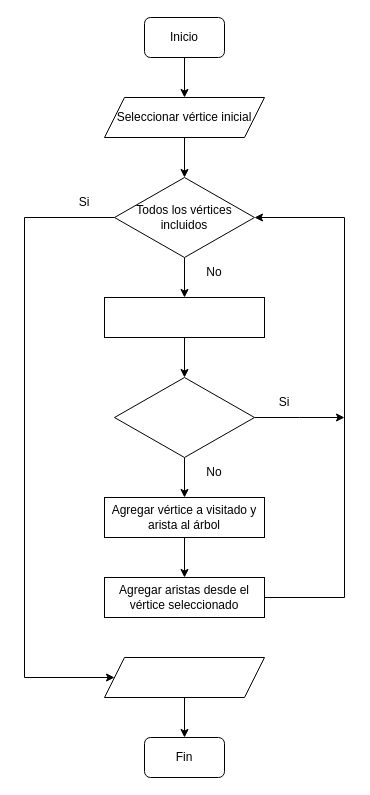
Image size: 370x795. Some labels were removed from this diagram. The shapes that lost their labels are listed below. From the top down, each one's centre as x and y in pixels, then its label:
At point (184, 317): "Encontrar arista de peso mínimo".
At point (184, 417): "Lleva a un vértice ya incluido".
At point (184, 677): "Retornar árbol y peso".
